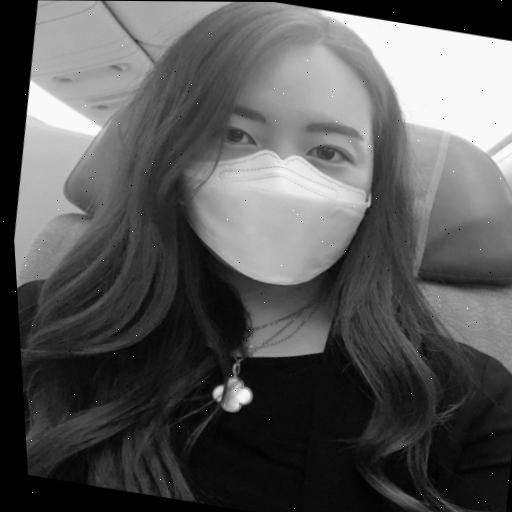mask: (159, 49, 394, 298)
